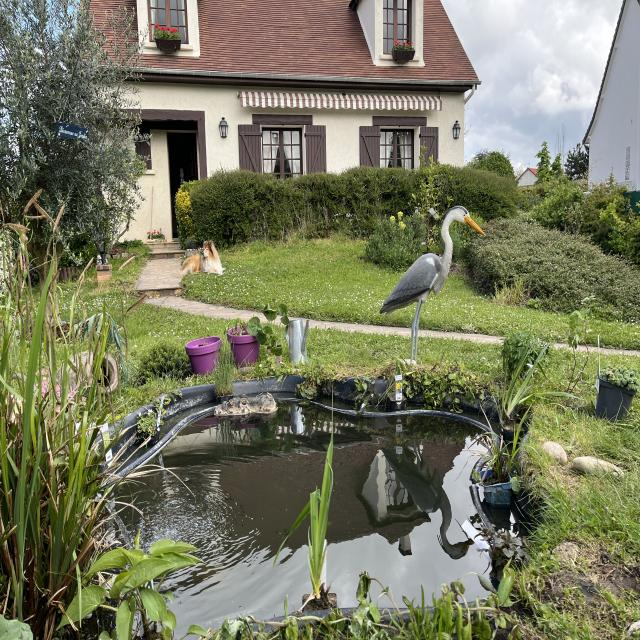Dog: (172, 231, 232, 287)
Heron: (368, 199, 488, 377)
